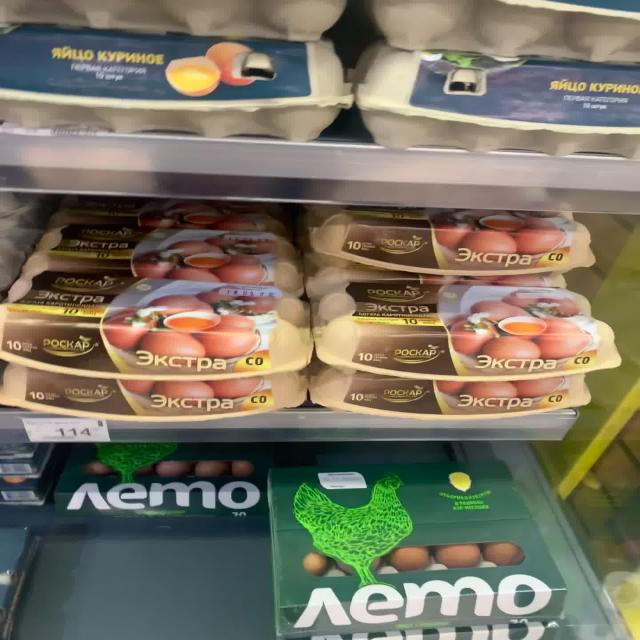egg box: (258, 455, 570, 626), (5, 25, 344, 149), (5, 274, 311, 374), (320, 289, 619, 370), (19, 215, 286, 286), (318, 212, 602, 275)
